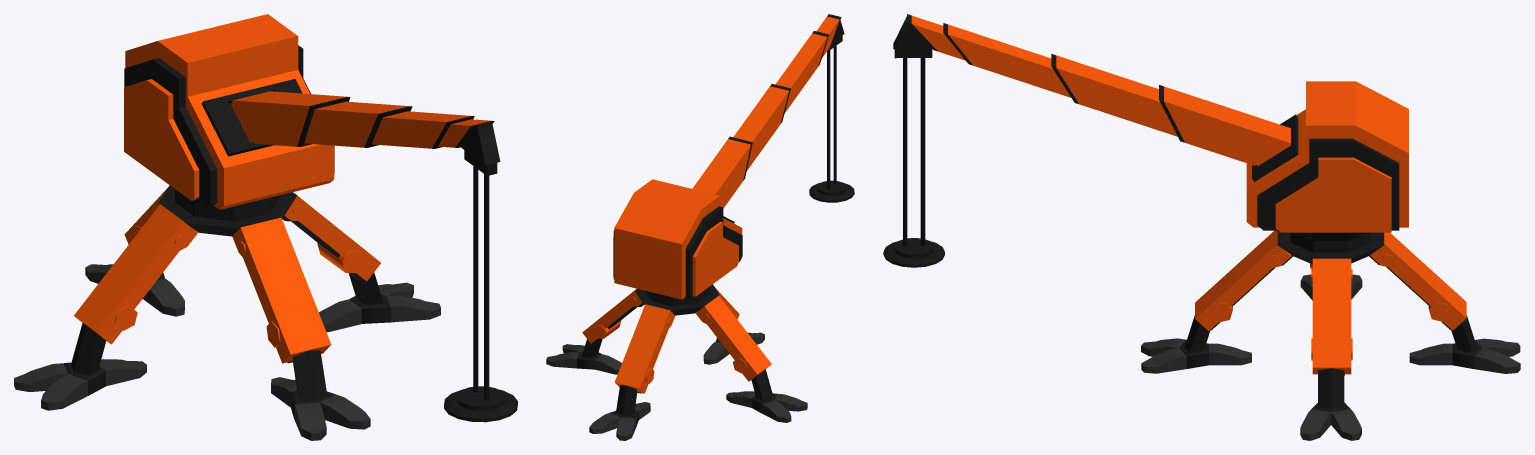
File: crane.FBX
The picture shows the model from 3 angles, left to right: view 1: azimuth 30°, elevation 25°; view 2: azimuth 150°, elevation 25°; view 3: azimuth 270°, elevation 25°; orthographic projection. The views are drawn at different scales.
Visible parts, largest first — view 1: Cylinder005; view 2: Cylinder005; view 3: Cylinder005.
Boxes of the visible parts, x1=… form: Cylinder005: x1=14, y1=14, x2=517, y2=440; Cylinder005: x1=546, y1=14, x2=854, y2=440; Cylinder005: x1=883, y1=14, x2=1520, y2=440.
Bounding box in the file's own units: 97.57 × 97.27 × 164.
